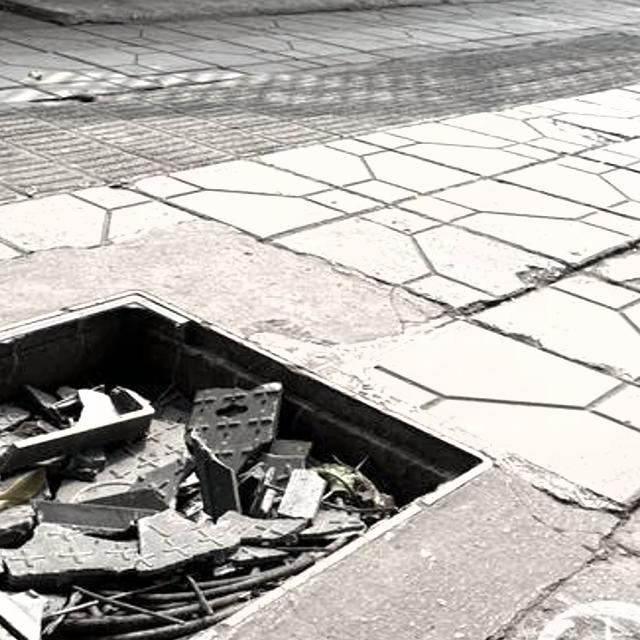broke: (0, 232, 640, 640)
